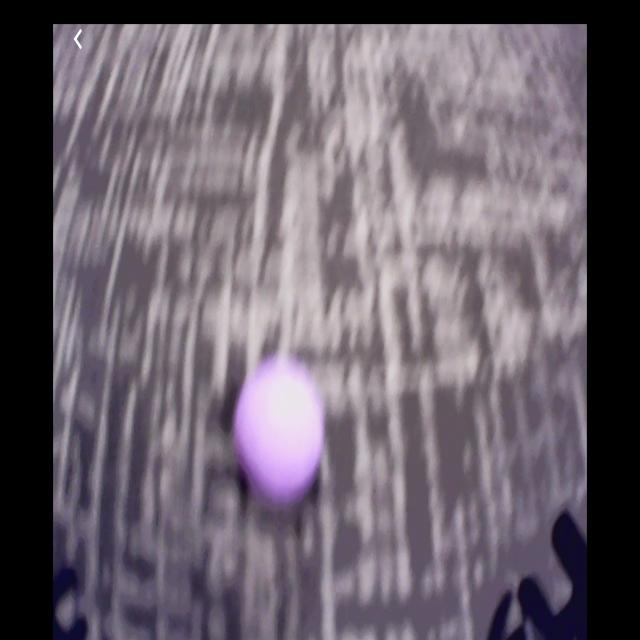ball: (239, 360, 326, 502)
